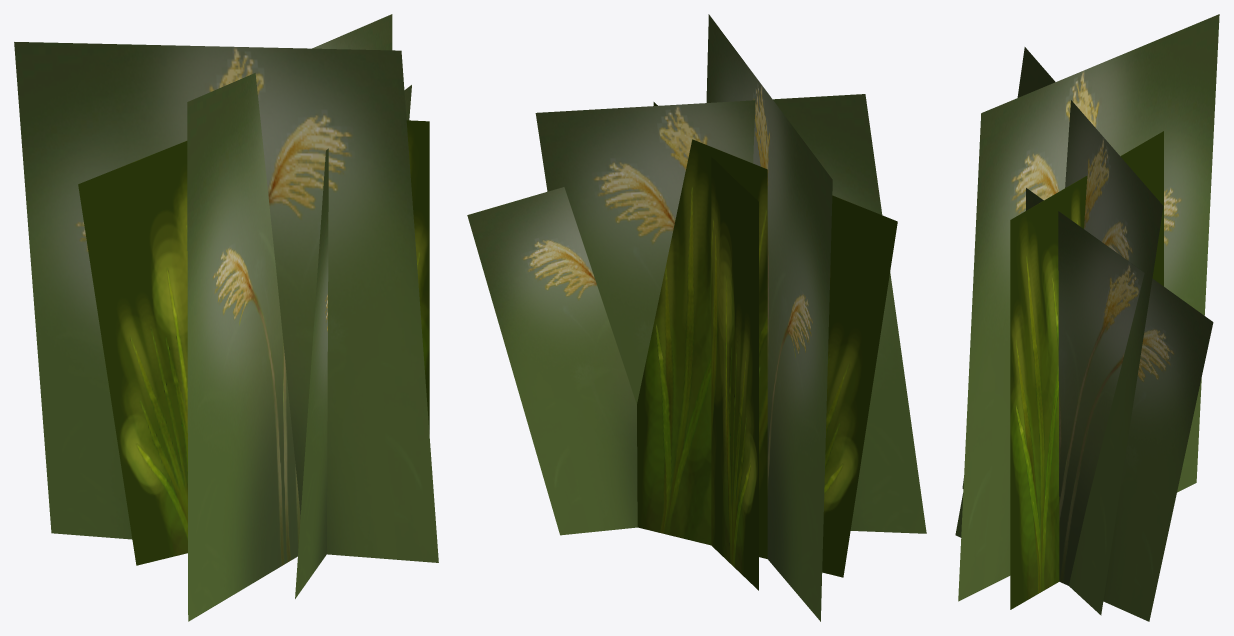
File: CeShi_BFB07_Cao02.FBX
3 views of the same model, side by side, from view 1: azimuth 30°, elevation 25°; view 2: azimuth 150°, elevation 25°; view 3: azimuth 270°, elevation 25° (orthographic). The views are drawn at different scales.
Visible parts, largest first — view 1: CeShi_BFB07_Cao02; view 2: CeShi_BFB07_Cao02; view 3: CeShi_BFB07_Cao02.
Part boxes in pixels (x1,y1,x2,y2): CeShi_BFB07_Cao02: [14, 14, 438, 621]; CeShi_BFB07_Cao02: [467, 14, 926, 621]; CeShi_BFB07_Cao02: [955, 14, 1219, 621].
Bounding box in the file's own units: 208 × 254 × 128.
